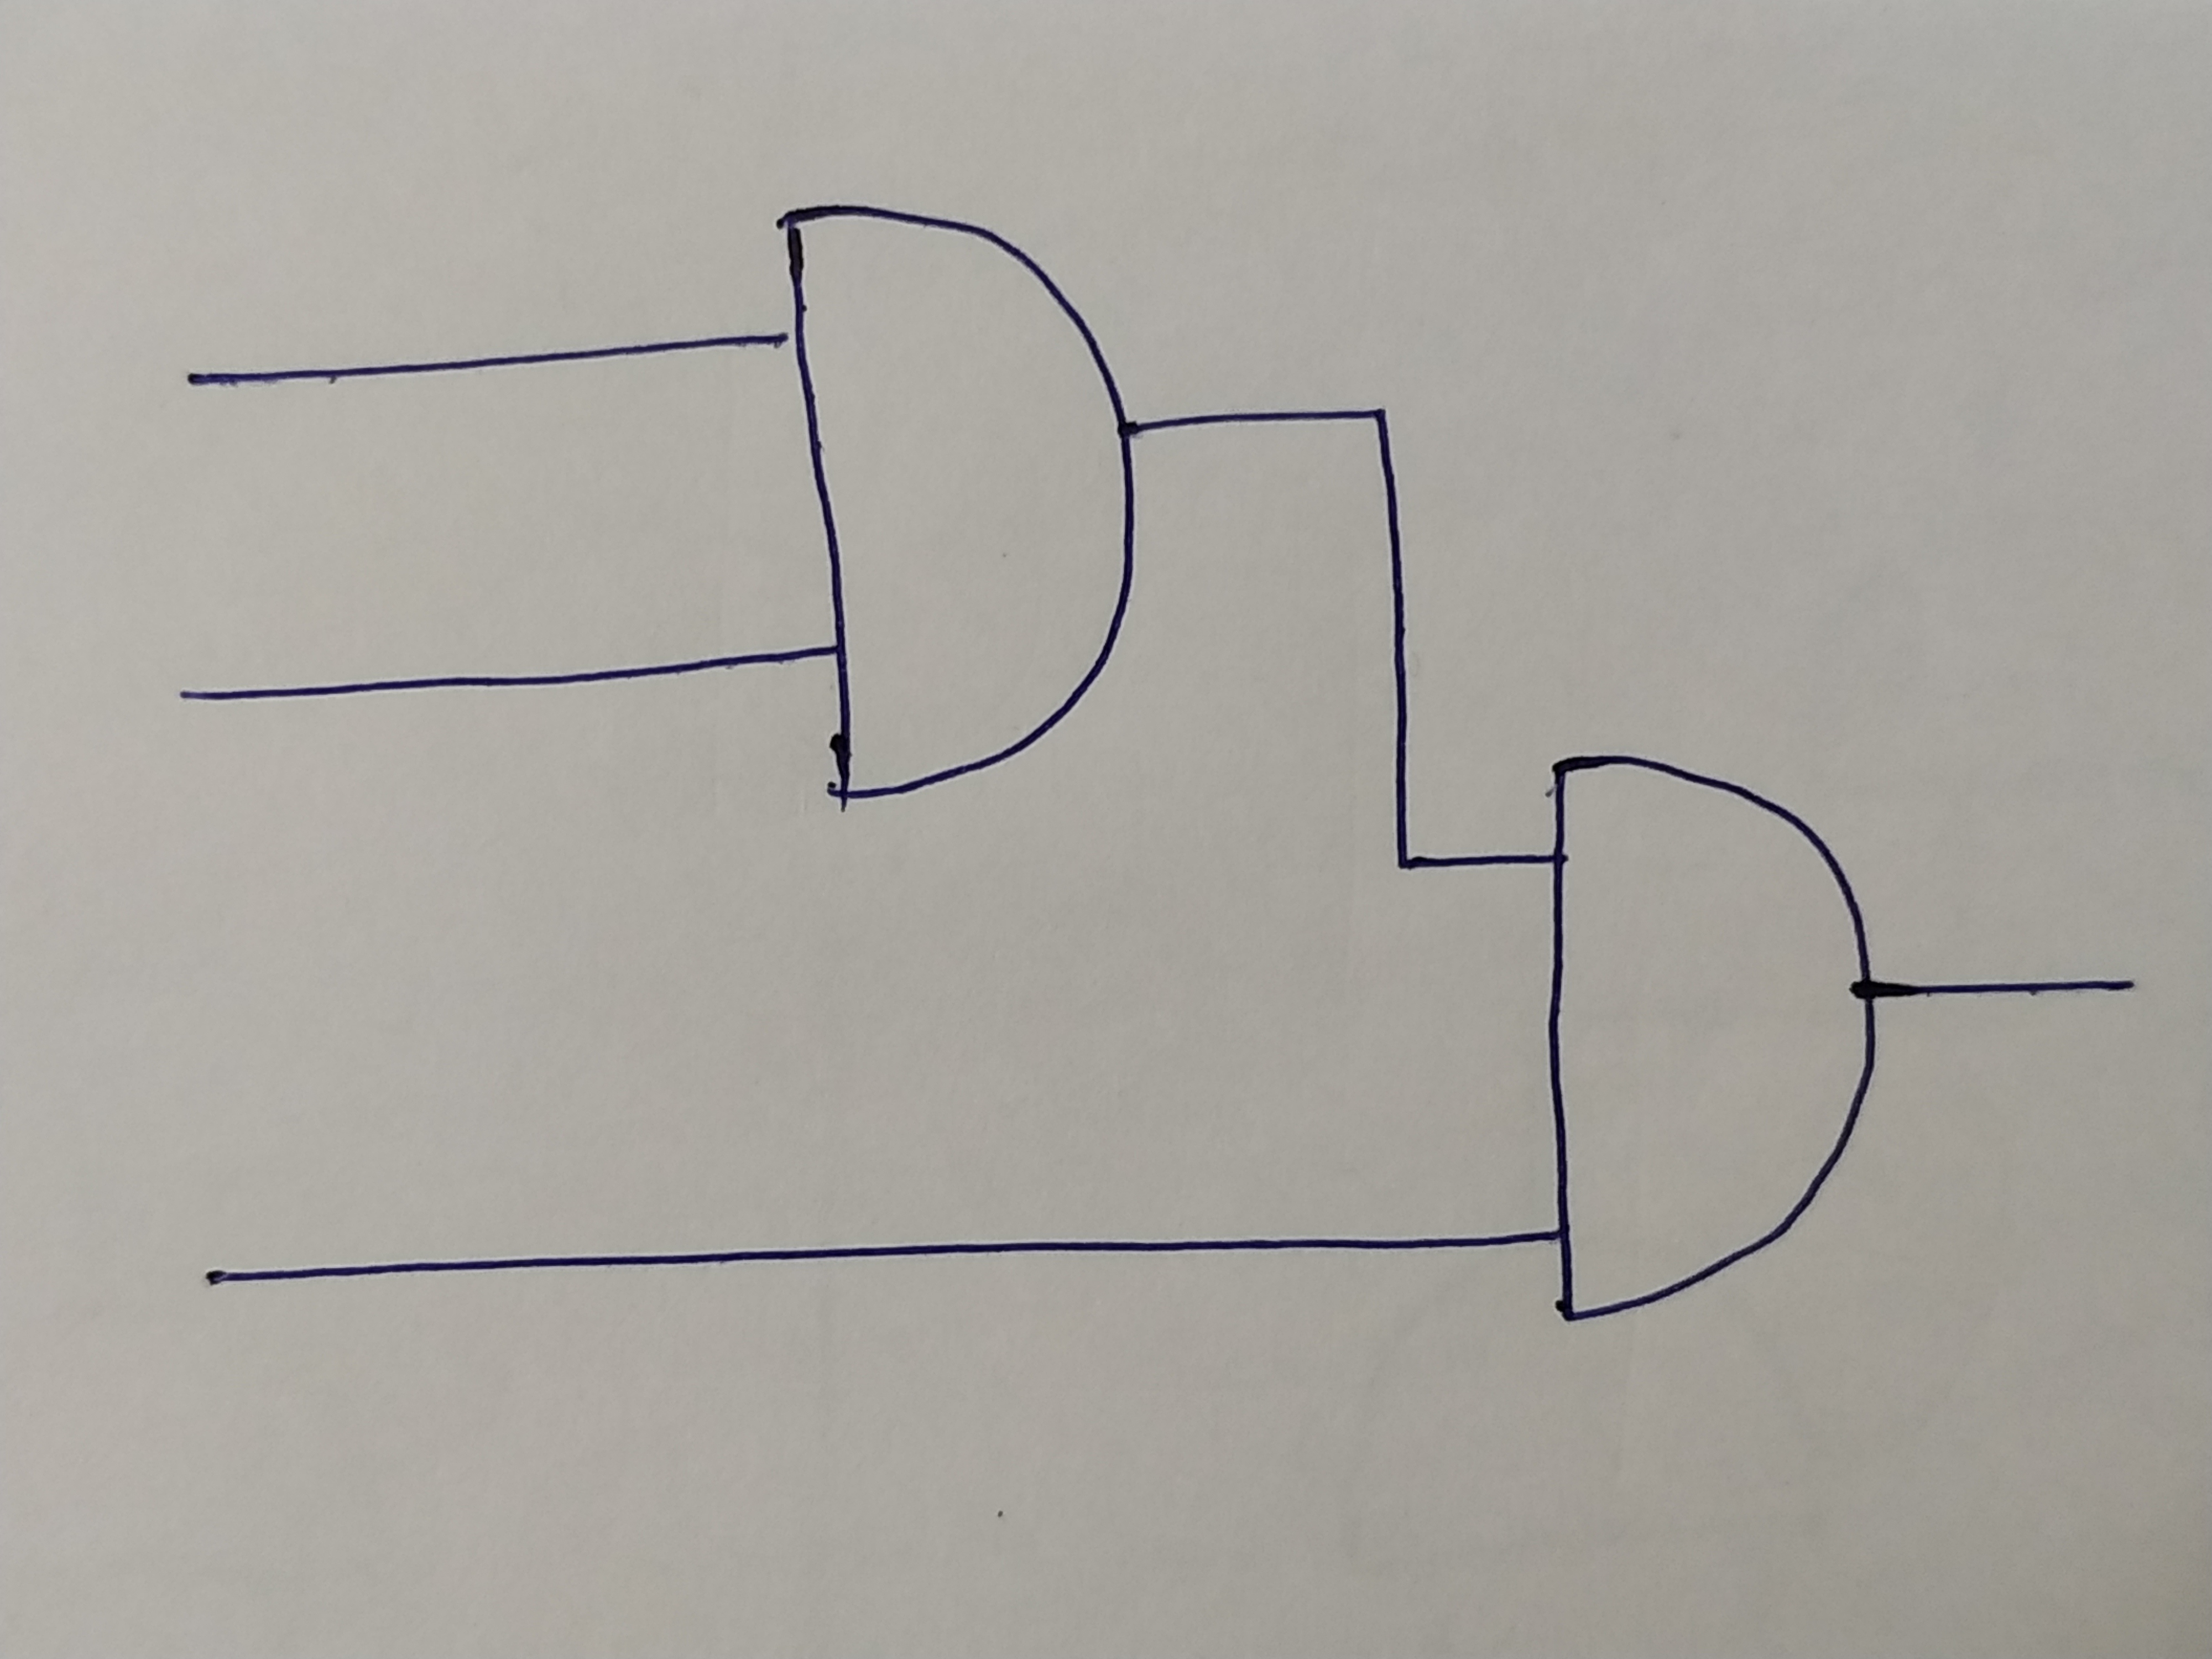and: (780, 209, 1127, 800), (1543, 758, 1865, 1317)
